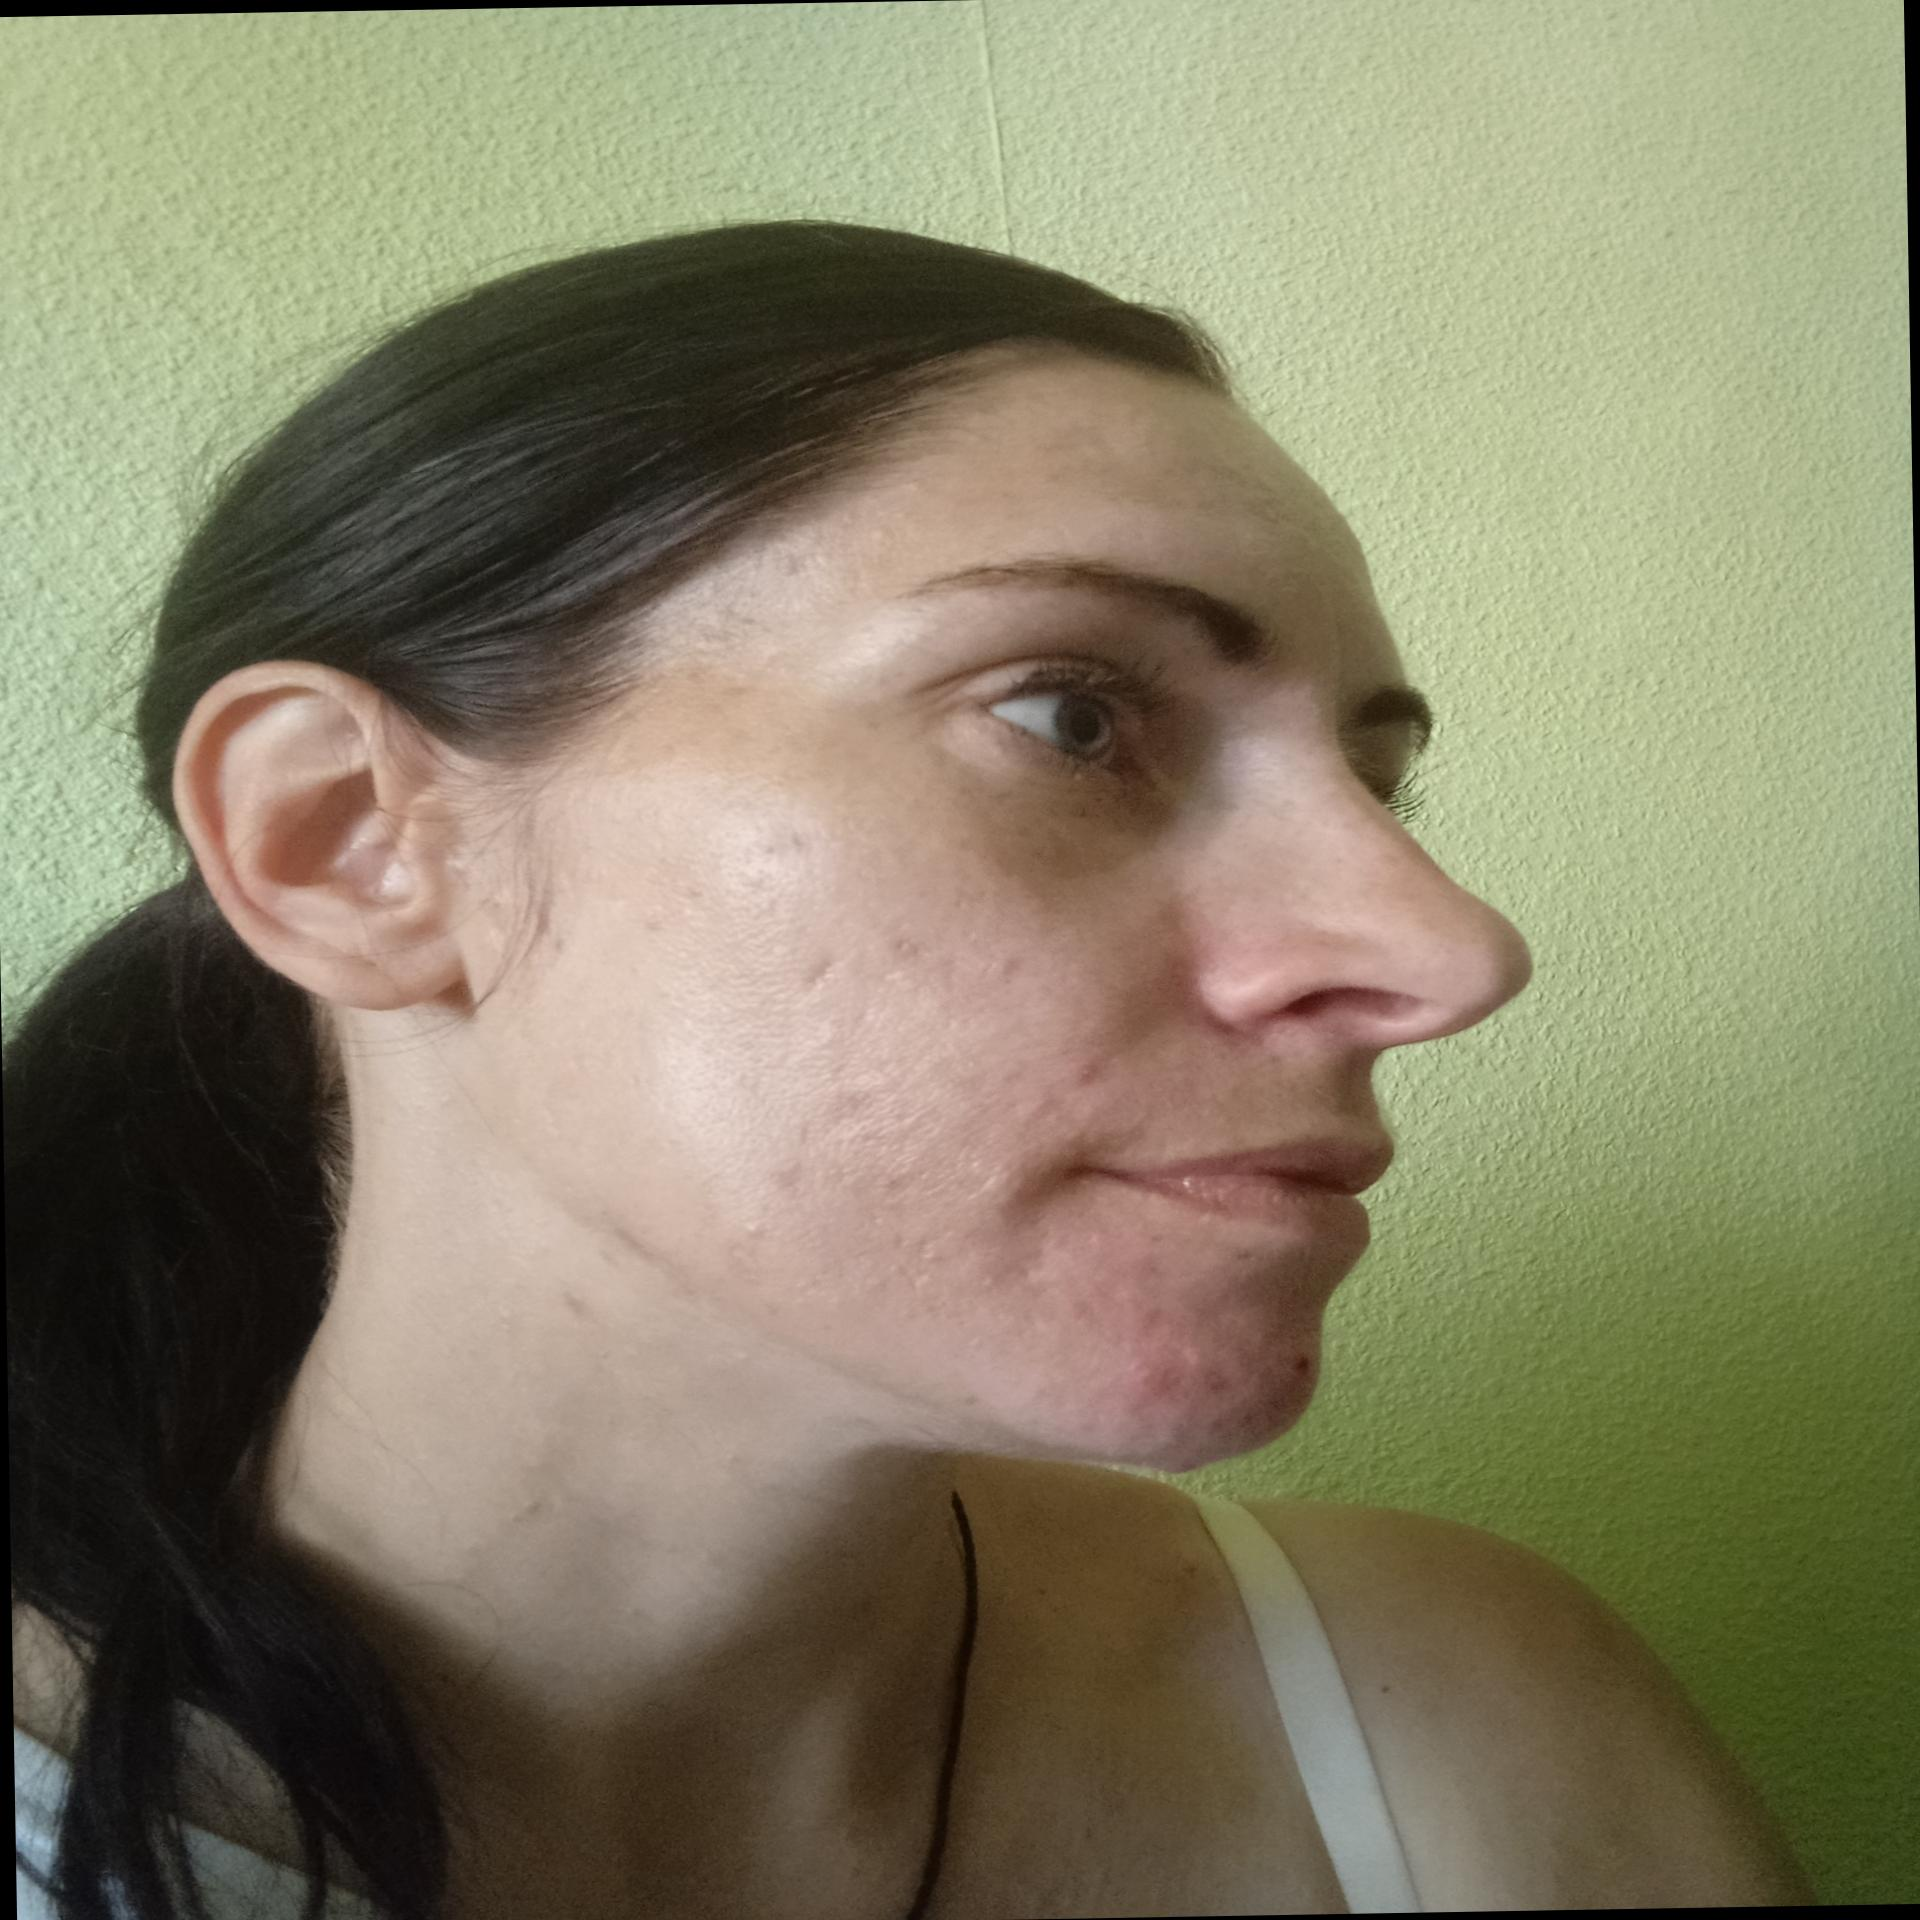Acne: (1131, 1361, 1240, 1398), (1127, 1259, 1173, 1331), (1064, 1050, 1111, 1092), (1201, 1412, 1291, 1433), (1252, 1319, 1315, 1345), (879, 928, 918, 962), (1289, 1354, 1313, 1382)
Blackhead: (747, 828, 823, 856)
Englarged Pores: (698, 1027, 1000, 1201), (659, 874, 833, 1101)
Wrinkles: (1320, 589, 1359, 705)
